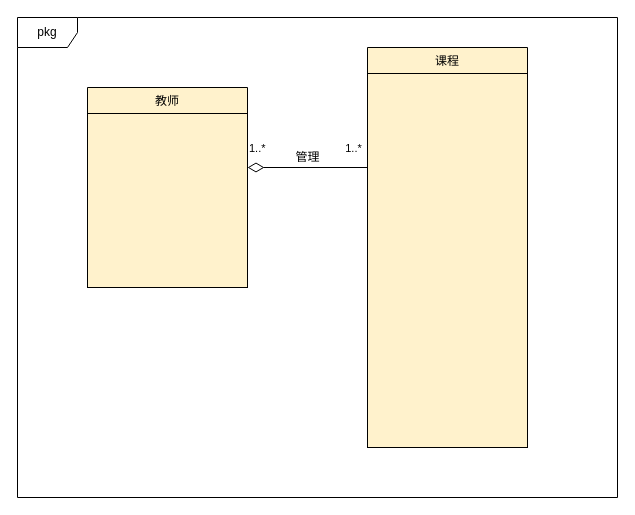
Image size: 635x515. Some labels were removed from this diagram. Here are the shapes that lost their labels. From the top down, the centre of each, then its label:
point (167, 200): id 用户名 电话号码 头像 余额 创建时间
point (447, 260): id 课程名称 类型 介绍 封面 所属学校 价格 授课老师 课件 点赞数 题库 测试 讨论区
